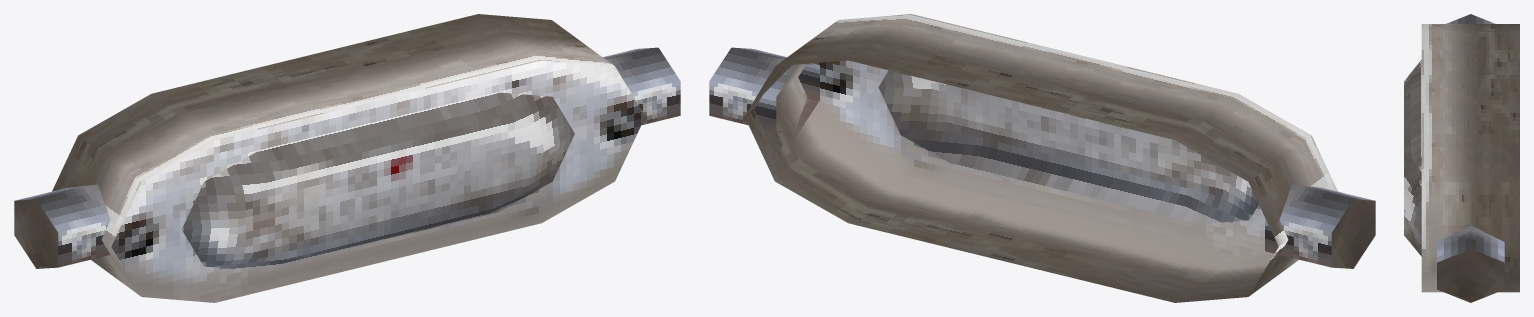
The model's file is electrical_junctionbox_small.glb.
The picture shows the model from 3 angles, left to right: view 1: azimuth 30°, elevation 25°; view 2: azimuth 150°, elevation 25°; view 3: azimuth 270°, elevation 25°; orthographic projection. The views are drawn at different scales.
Parts seen in each view (by area): view 1: electrical_junctionbox_small; view 2: electrical_junctionbox_small; view 3: electrical_junctionbox_small.
Part boxes in pixels (box(x1,y1,x2,y2)): electrical_junctionbox_small: box(14, 14, 680, 302); electrical_junctionbox_small: box(709, 14, 1375, 302); electrical_junctionbox_small: box(1404, 14, 1519, 302).
Size of the model in its own units: 0.1524 by 0.0381 by 0.0318.
1 material, 1 textured.
